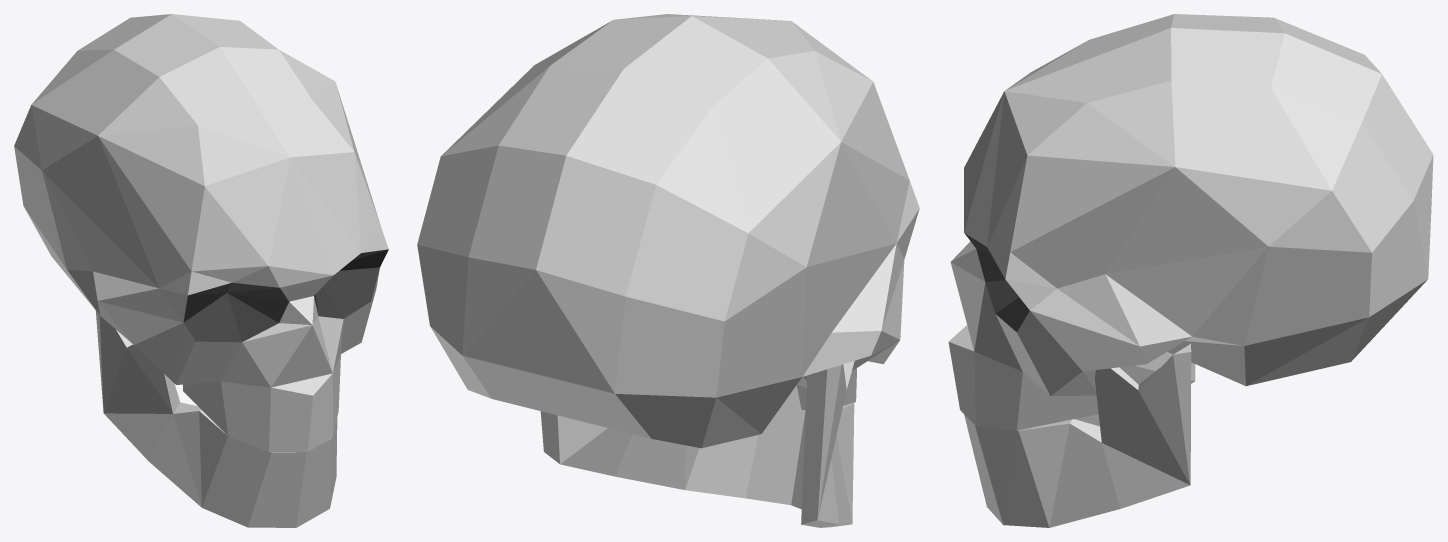
File: Ship_001.fbx
3 views of the same model, side by side, from view 1: azimuth 30°, elevation 25°; view 2: azimuth 150°, elevation 25°; view 3: azimuth 270°, elevation 25° (orthographic). The views are drawn at different scales.
Visible parts, largest first — view 1: Ship_001; view 2: Ship_001; view 3: Ship_001.
Part boxes in pixels (x1,y1,x2,y2): Ship_001: [14, 14, 388, 527]; Ship_001: [417, 14, 919, 527]; Ship_001: [948, 14, 1433, 527].
Size of the model in its own units: 20.36 by 27.99 by 30.71.
Materials: 1 (1 with a texture image).
